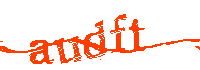a: (27, 37, 52, 67)
d: (83, 20, 109, 60)
f: (110, 12, 127, 54)
t: (130, 18, 146, 52)
u: (53, 34, 83, 66)
